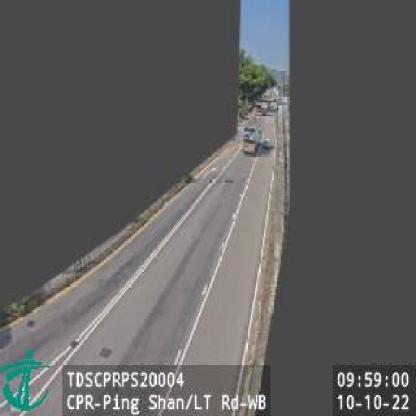Bus: (243, 117, 258, 153)
